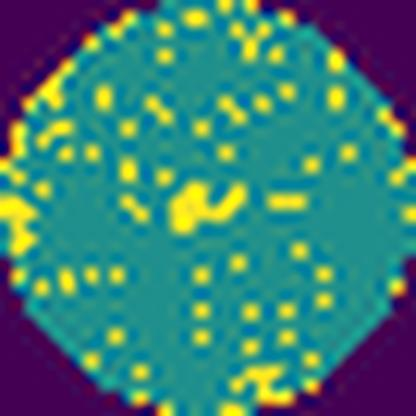Center: (165, 170, 250, 238)
